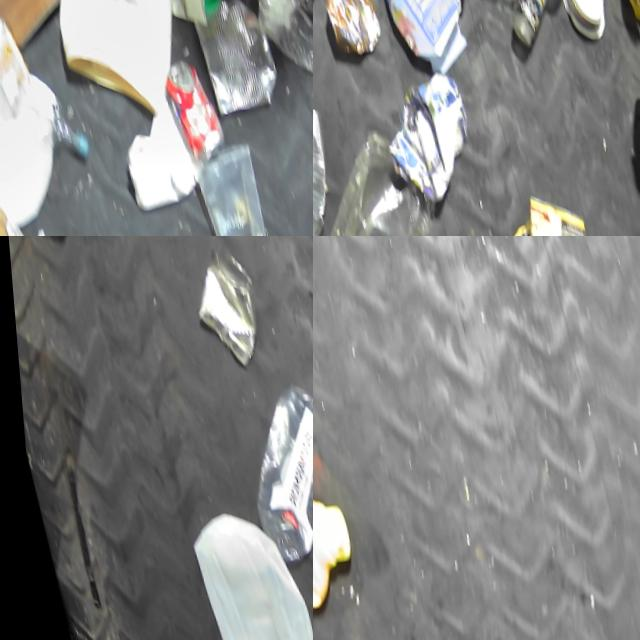can: (183, 0, 283, 126), (181, 244, 269, 375), (149, 53, 223, 170), (313, 70, 346, 236), (319, 0, 386, 63), (514, 190, 593, 236)
milk_jug: (178, 503, 313, 640), (0, 10, 76, 234)
non_white_jug: (371, 72, 482, 211), (371, 0, 476, 83), (313, 459, 360, 635)
